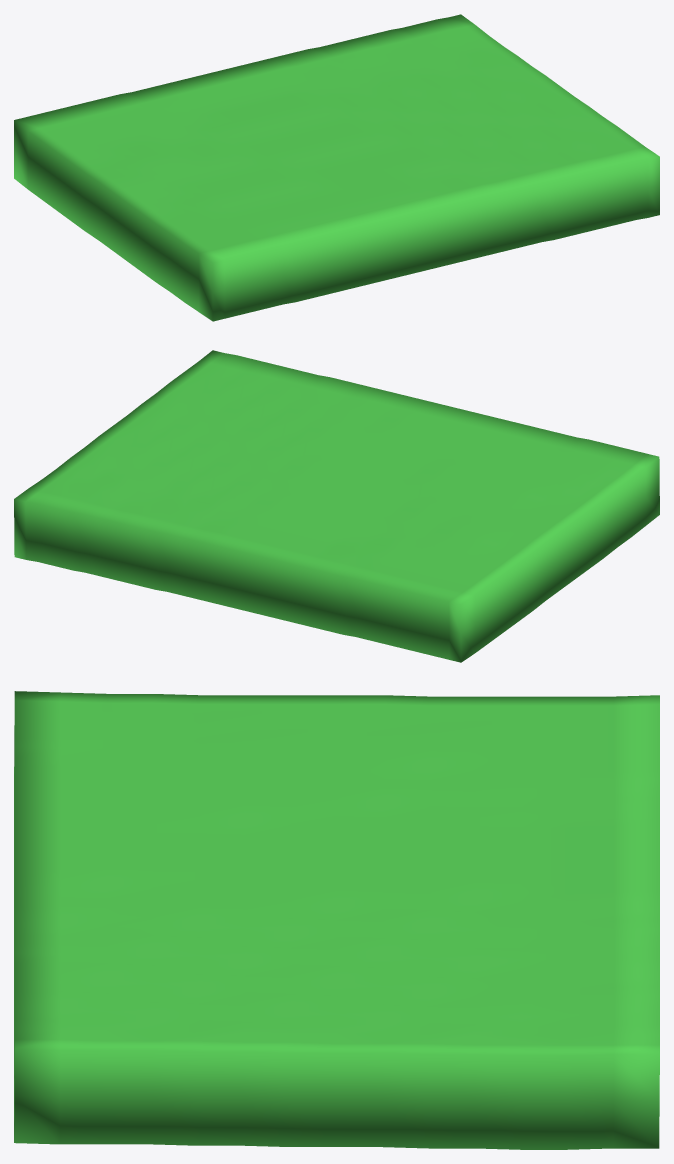
The model's file is TerrainForHervanta.fbx.
3 renders of one model, top to bottom at view 1: azimuth 30°, elevation 25°; view 2: azimuth 150°, elevation 25°; view 3: azimuth 270°, elevation 25°, orthographic. The views are drawn at different scales.
Visible parts, largest first — view 1: Terrain; view 2: Terrain; view 3: Terrain.
Boxes of the visible parts, bbox=[...] form: Terrain: bbox=[14, 14, 659, 321]; Terrain: bbox=[14, 350, 659, 662]; Terrain: bbox=[14, 691, 659, 1149].
Bounding box in the file's own units: 56198 × 7788 × 43343.
